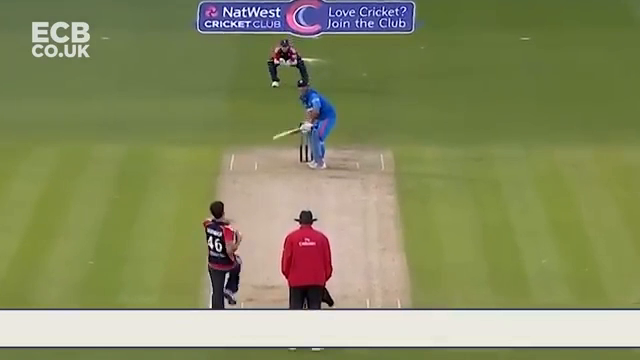Bowler: (203, 201, 246, 309)
Keeper: (266, 36, 313, 89)
Umpire: (279, 211, 344, 309)
batsman: (287, 78, 335, 170)
